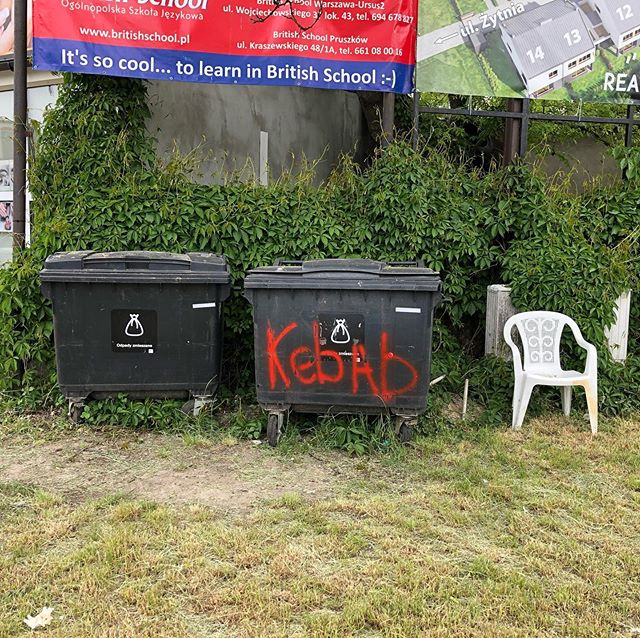chair: (488, 306, 608, 434)
dumpster: (245, 253, 451, 431), (37, 244, 241, 417)
graffiti: (260, 316, 418, 411)
grass: (24, 425, 640, 638)
sign: (27, 1, 422, 103), (414, 1, 640, 101)
vegetation: (1, 148, 622, 278)
